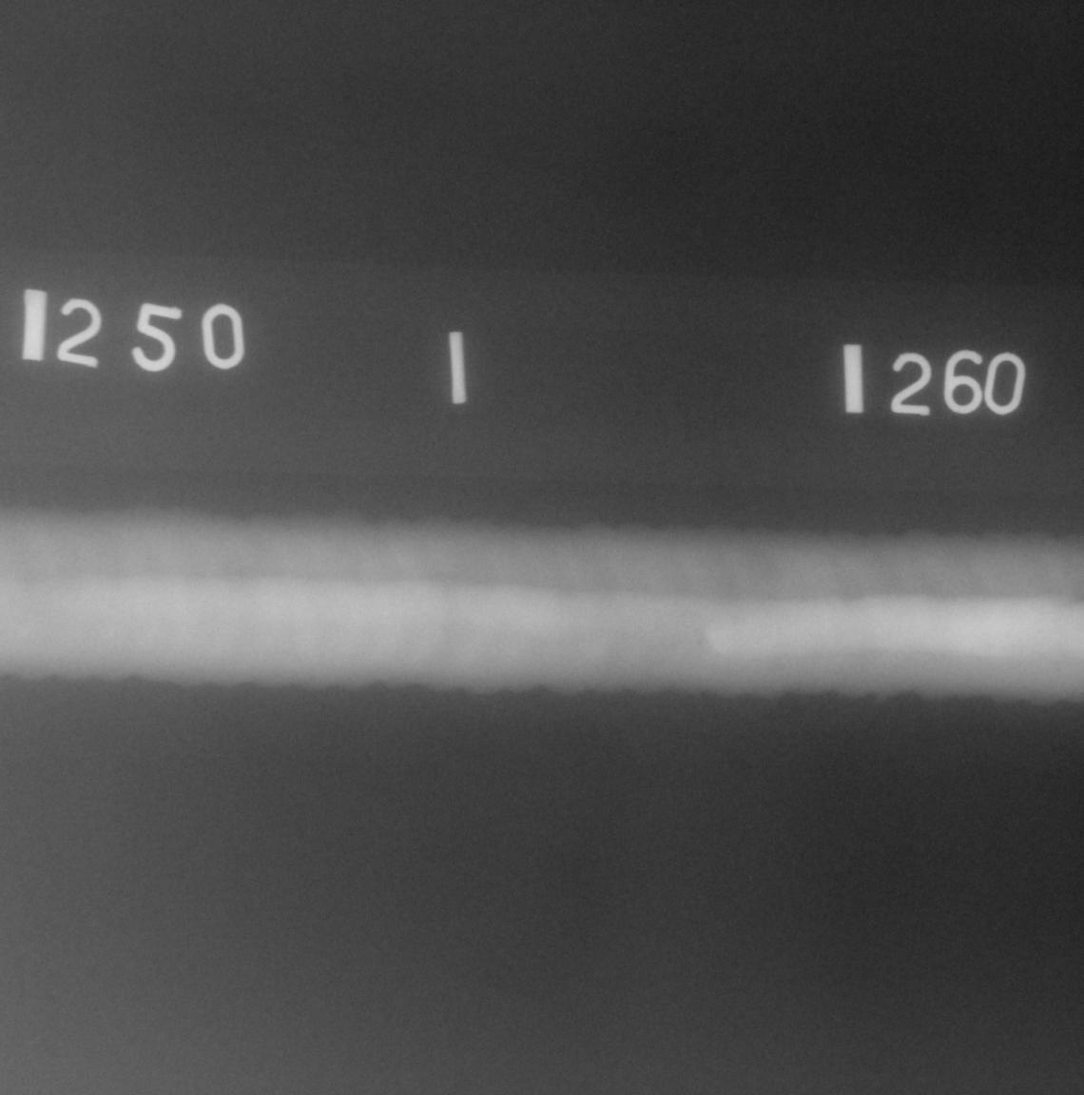Pore/Porosity: (698, 641, 700, 644)
